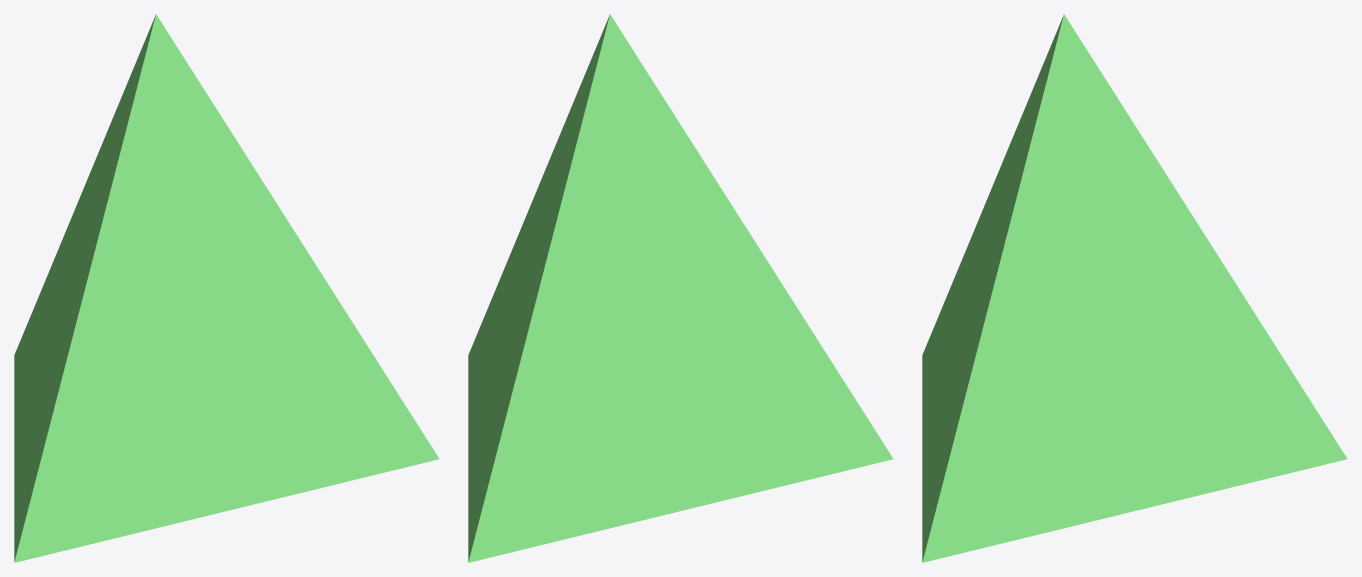
Rendered from pyramid_particle.glb.
The picture shows the model from 3 angles, left to right: view 1: azimuth 30°, elevation 25°; view 2: azimuth 150°, elevation 25°; view 3: azimuth 270°, elevation 25°; orthographic projection.
Parts seen in each view (by area): view 1: PyramidParticle; view 2: PyramidParticle; view 3: PyramidParticle.
Part boxes in pixels (<box>): PyramidParticle: <box>14,14,439,562</box>; PyramidParticle: <box>468,14,893,562</box>; PyramidParticle: <box>922,14,1347,562</box>.
Bounding box in the file's own units: 0.1 × 0.1 × 0.0866.
